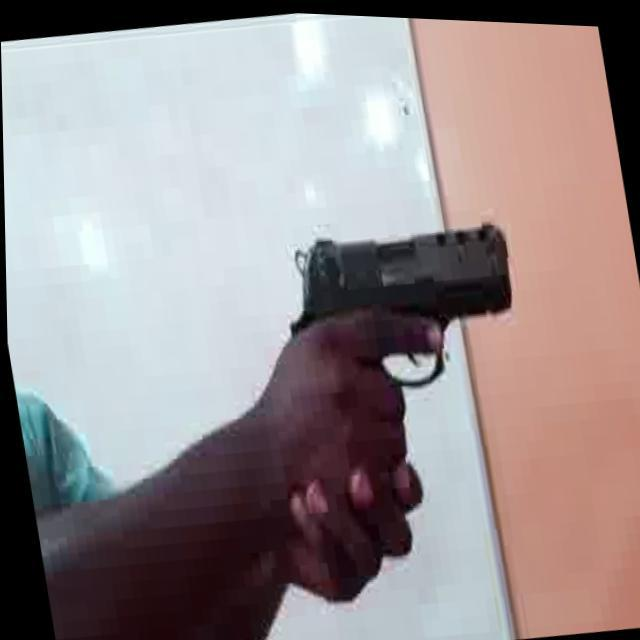weapon: (268, 205, 527, 406)
